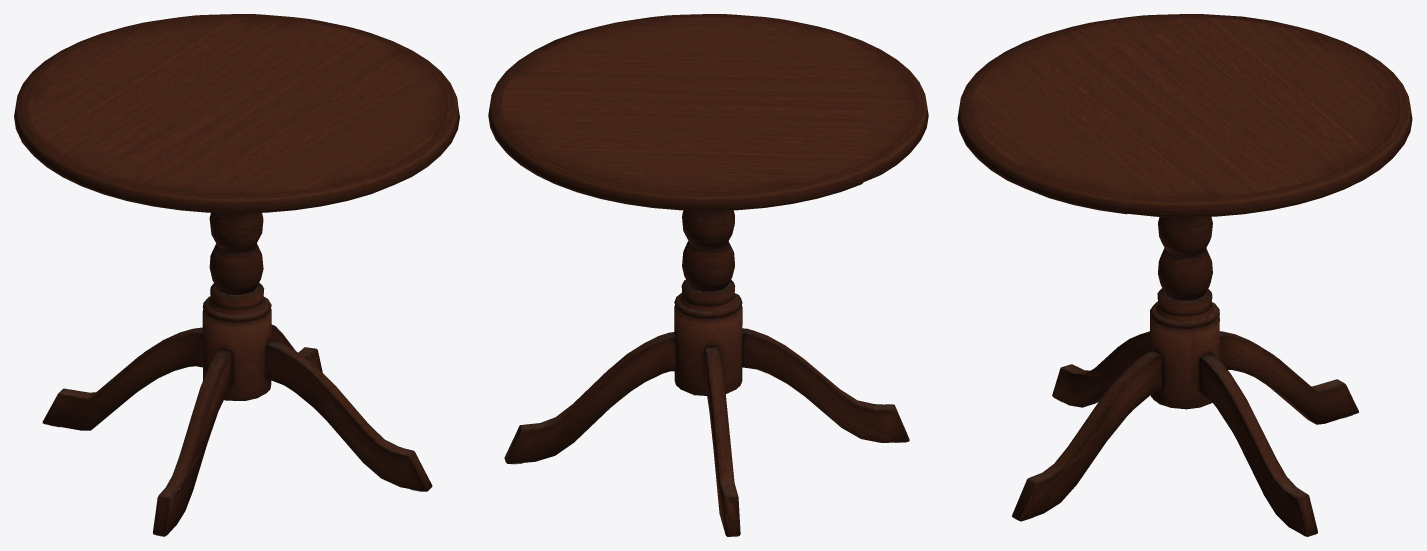
Rendered from pub_table.glb.
The picture shows the model from 3 angles, left to right: view 1: azimuth 30°, elevation 25°; view 2: azimuth 150°, elevation 25°; view 3: azimuth 270°, elevation 25°; orthographic projection. The views are drawn at different scales.
Visible parts, largest first — view 1: pub_table; view 2: pub_table; view 3: pub_table.
Boxes of the visible parts, x1,y1,x2,y2 form: pub_table: (14, 14, 459, 536); pub_table: (488, 14, 928, 536); pub_table: (957, 14, 1412, 536).
Bounding box in the file's own units: 0.8796 × 0.7647 × 0.8797.
Materials: 1 (1 with a texture image).
